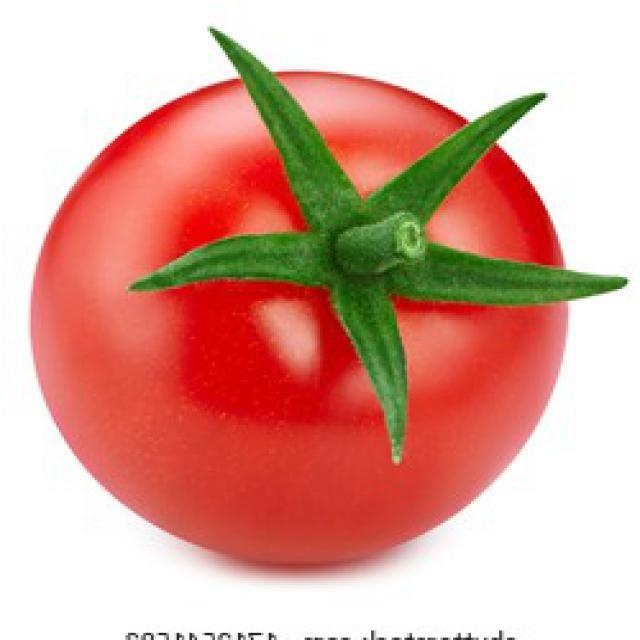Tomato: (29, 34, 628, 572)
